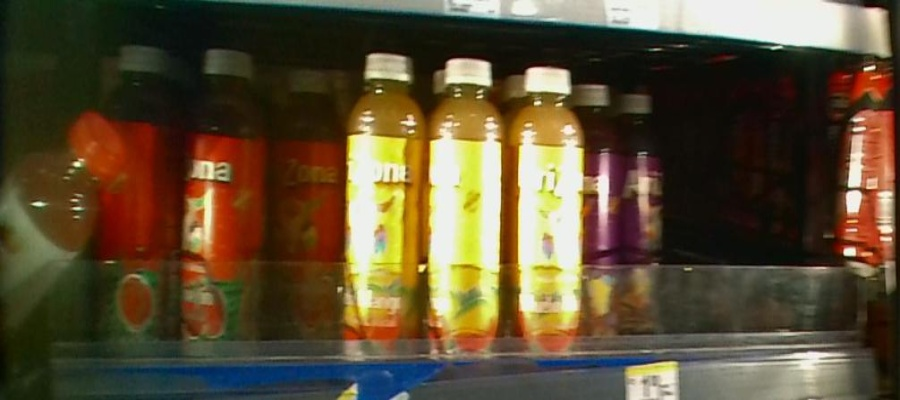bottle: (180, 39, 269, 375), (98, 36, 177, 368), (346, 45, 428, 364), (430, 40, 506, 372), (508, 39, 581, 379), (274, 56, 344, 368), (619, 80, 665, 354), (581, 72, 617, 345)
